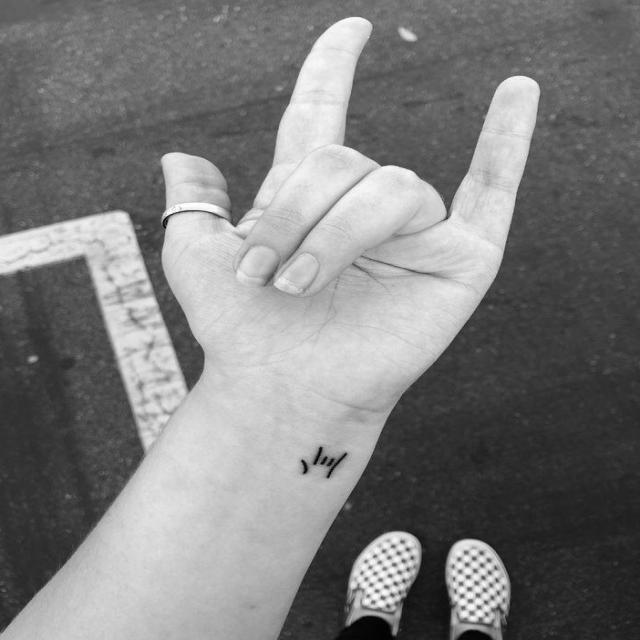i love you: (153, 8, 554, 409)
